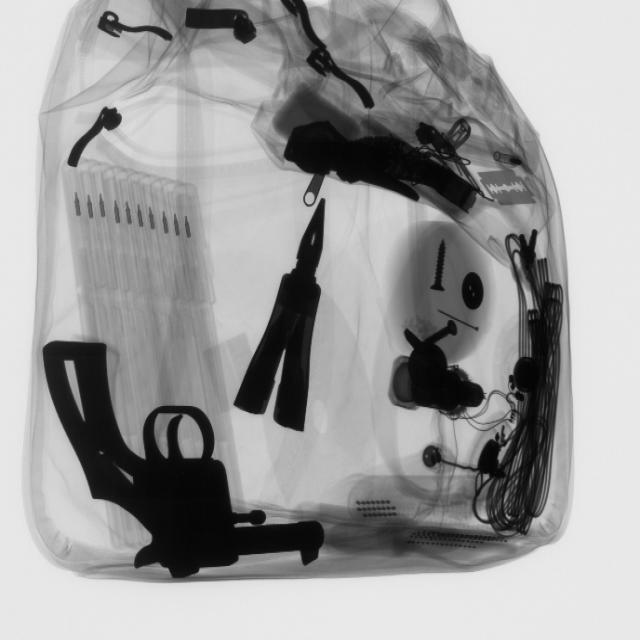BLADE: (475, 163, 539, 212)
GUN: (39, 336, 326, 573)
SCREW: (416, 230, 462, 302)
